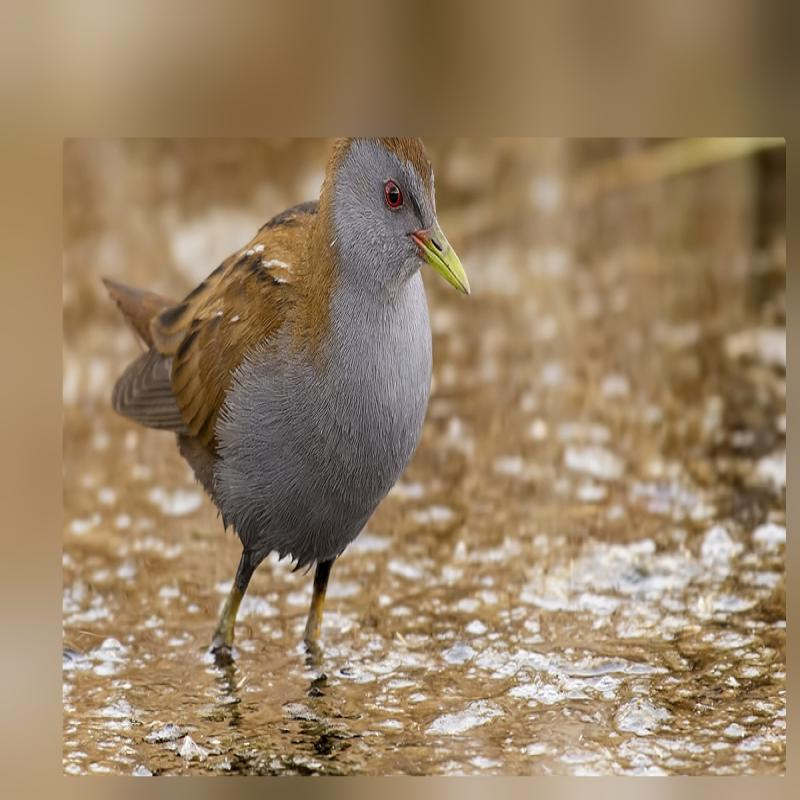little crake: (98, 136, 476, 646)
